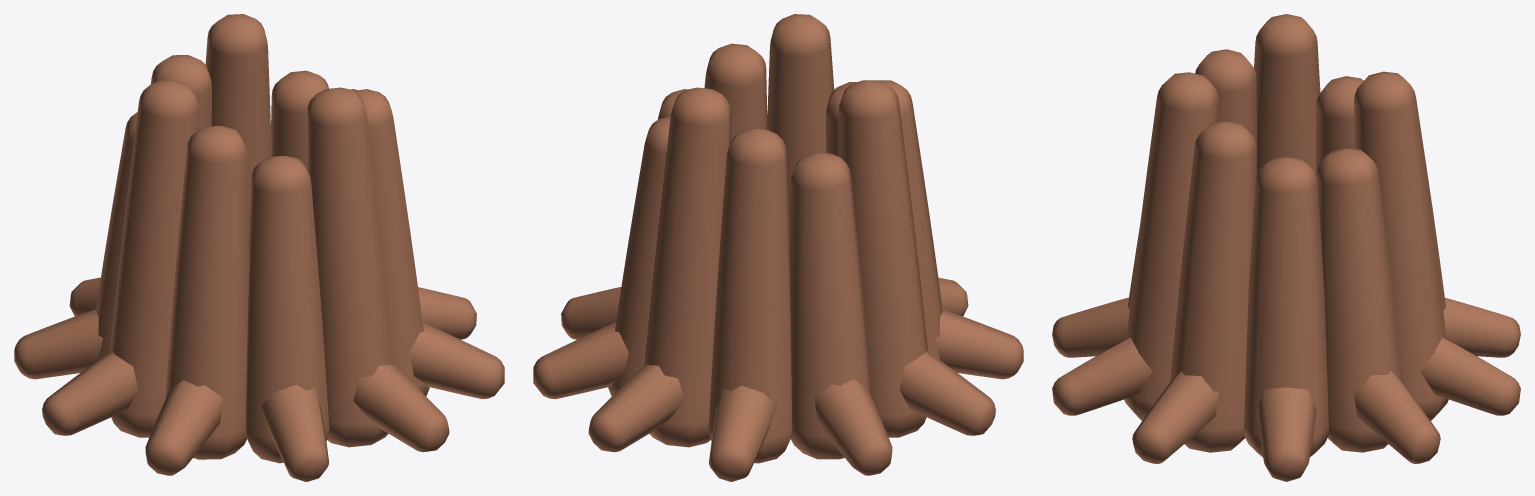
Rendered from primeval-frontier-hollow-stump-03af90fb__1764.glb.
3 renders of one model, left to right at view 1: azimuth 30°, elevation 25°; view 2: azimuth 150°, elevation 25°; view 3: azimuth 270°, elevation 25°, orthographic.
Parts seen in each view (by area): view 1: hollow-stump; view 2: hollow-stump; view 3: hollow-stump.
Boxes of the visible parts, x1,y1,x2,y2 form: hollow-stump: (14, 14, 504, 481); hollow-stump: (533, 14, 1023, 481); hollow-stump: (1052, 14, 1520, 481).
Size of the model in its own units: 1.65 by 1.29 by 1.58.
